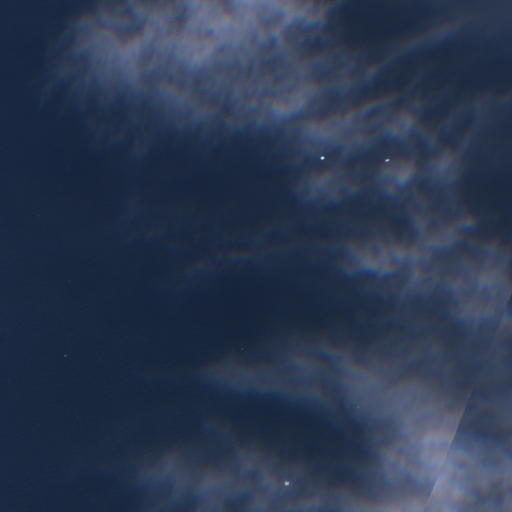Iceberg: (284, 481, 289, 485), (320, 156, 324, 159), (385, 158, 389, 161), (64, 355, 66, 356), (241, 348, 242, 349), (357, 406, 358, 407)
